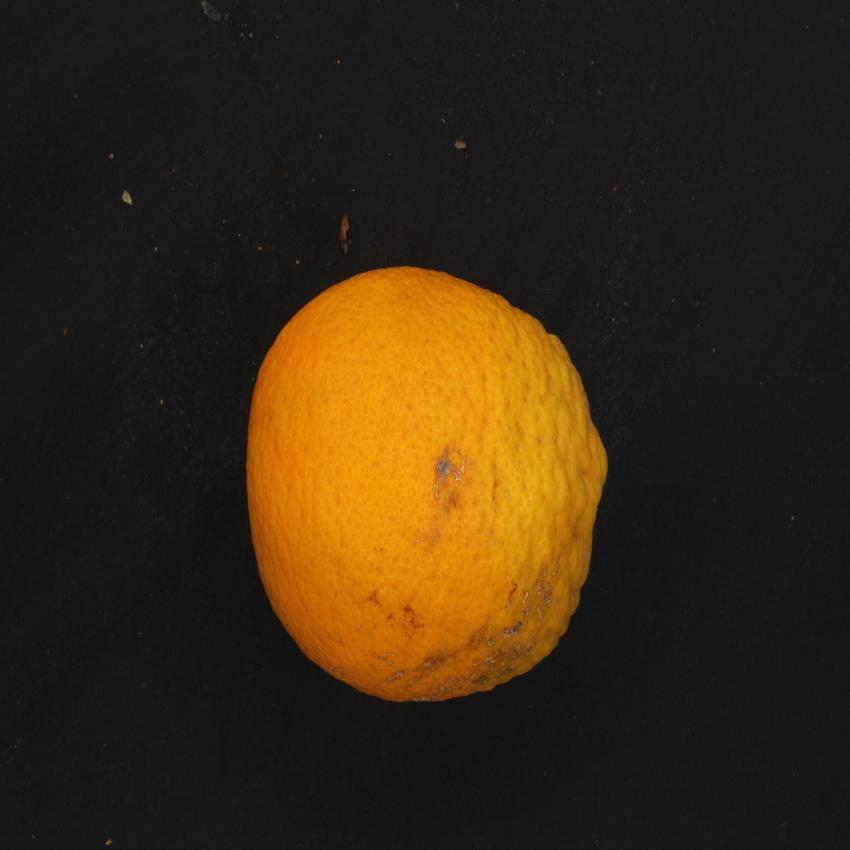Mal estado: (240, 257, 613, 717)
